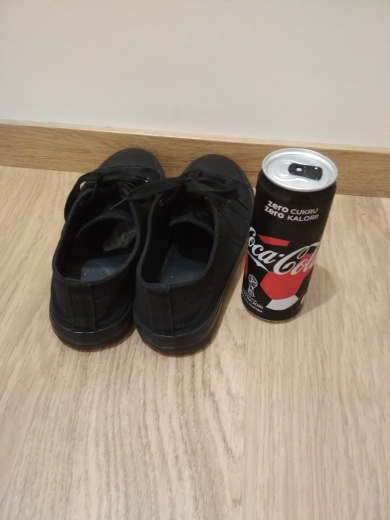colazero: (230, 140, 342, 338)
